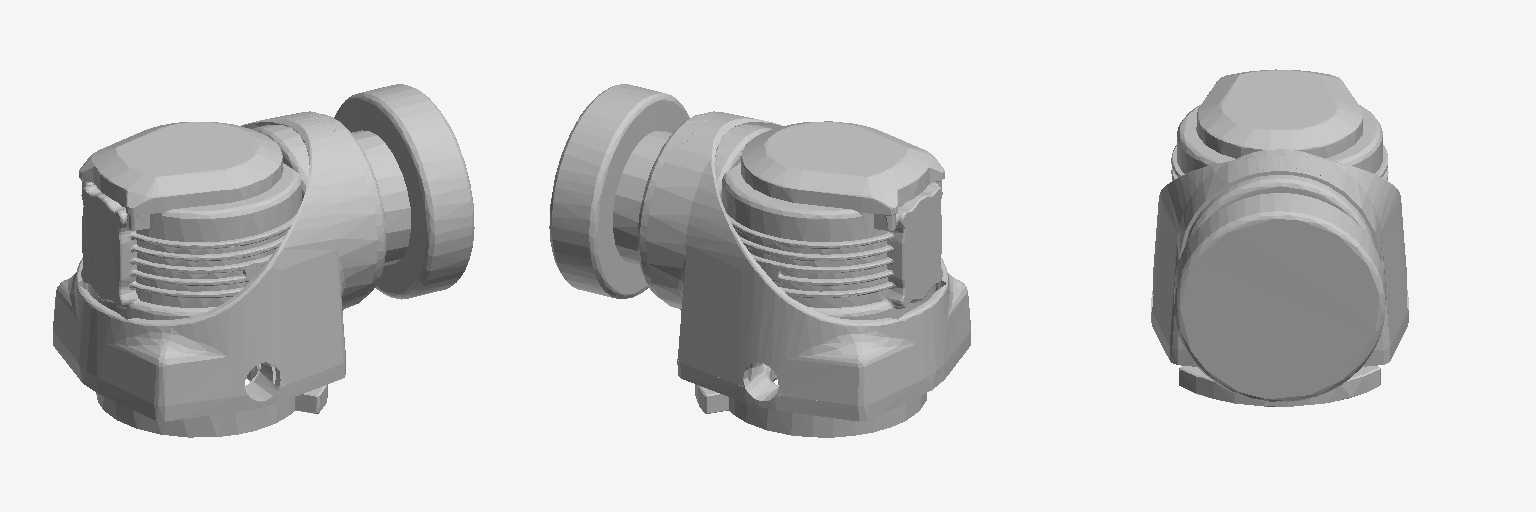
The model's file is rear_right_hip.obj.
3 renders of one model, left to right at view 1: azimuth 30°, elevation 25°; view 2: azimuth 150°, elevation 25°; view 3: azimuth 270°, elevation 25°, orthographic.
Parts seen in each view (by area): view 1: _2-042137-001-A00_TOP_LEVEL_DEFEATURED_-_NOT_FOR_PRODUCTION_010; view 2: _2-042137-001-A00_TOP_LEVEL_DEFEATURED_-_NOT_FOR_PRODUCTION_010; view 3: _2-042137-001-A00_TOP_LEVEL_DEFEATURED_-_NOT_FOR_PRODUCTION_010.
Part boxes in pixels (x1,y1,x2,y2): _2-042137-001-A00_TOP_LEVEL_DEFEATURED_-_NOT_FOR_PRODUCTION_010: (53, 84, 474, 437); _2-042137-001-A00_TOP_LEVEL_DEFEATURED_-_NOT_FOR_PRODUCTION_010: (549, 84, 970, 437); _2-042137-001-A00_TOP_LEVEL_DEFEATURED_-_NOT_FOR_PRODUCTION_010: (1151, 69, 1408, 406).
Bounding box in the file's own units: 0.1417 × 0.1001 × 0.0941.